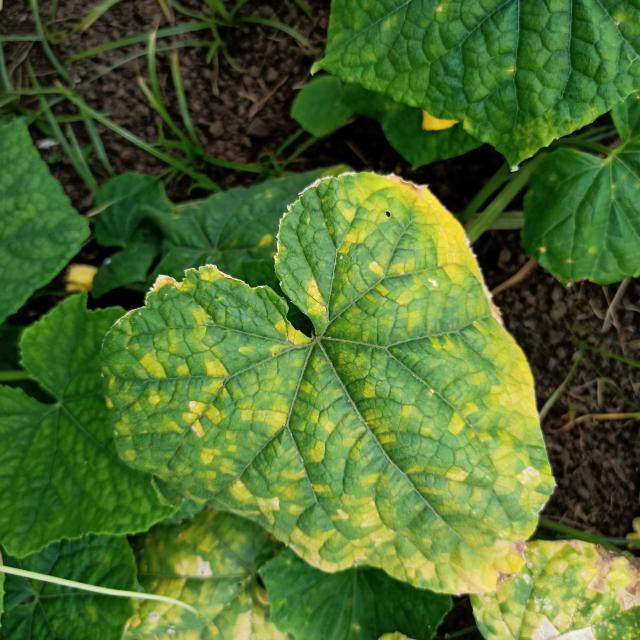disease_cucumber: (114, 170, 559, 590)
